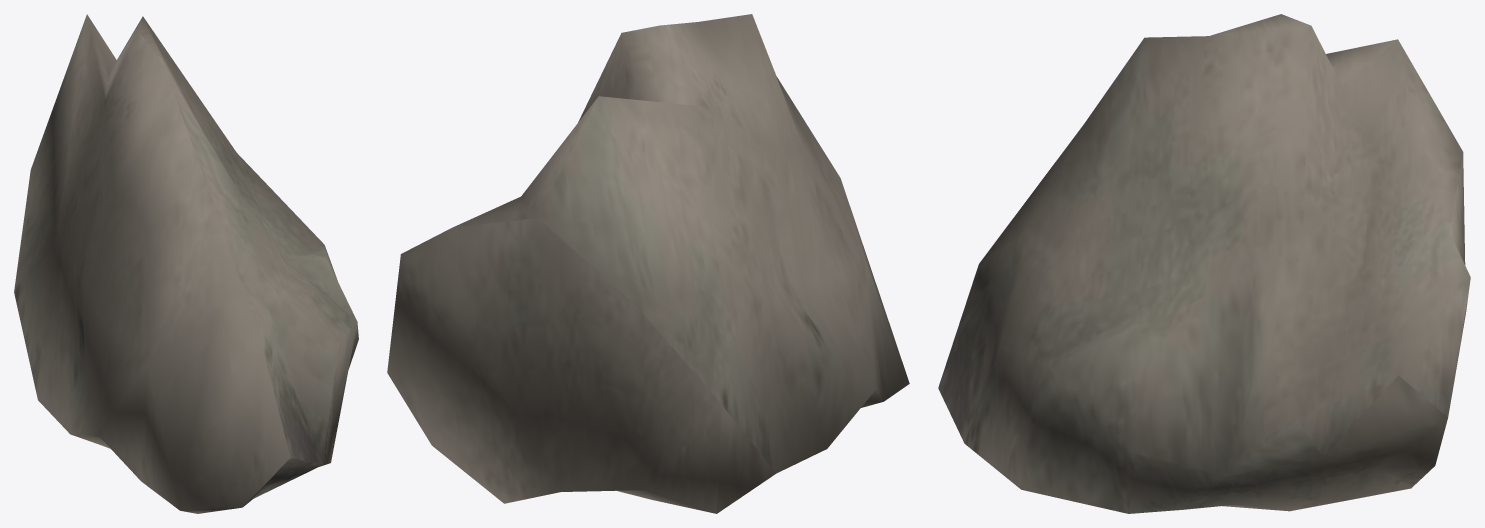
The model's file is moon_rock_04_lo.glb.
The picture shows the model from 3 angles, left to right: view 1: azimuth 30°, elevation 25°; view 2: azimuth 150°, elevation 25°; view 3: azimuth 270°, elevation 25°; orthographic projection. The views are drawn at different scales.
Parts seen in each view (by area): view 1: moon_rock_04_lo; view 2: moon_rock_04_lo; view 3: moon_rock_04_lo.
Part boxes in pixels (box(x1,y1,x2,y2)): moon_rock_04_lo: box(14, 14, 358, 513); moon_rock_04_lo: box(387, 14, 909, 513); moon_rock_04_lo: box(938, 14, 1470, 513).
Size of the model in its own units: 0.6786 by 0.9583 by 0.9914.
1 material, 1 textured.
